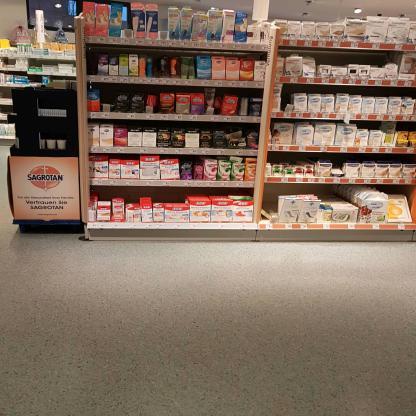Void: (317, 53, 385, 63), (155, 186, 181, 202), (317, 184, 344, 199), (264, 183, 276, 216), (100, 189, 143, 198), (101, 86, 114, 110), (122, 7, 131, 37), (86, 50, 97, 74), (281, 184, 313, 192), (158, 8, 166, 39), (283, 90, 293, 112), (153, 56, 161, 78)
